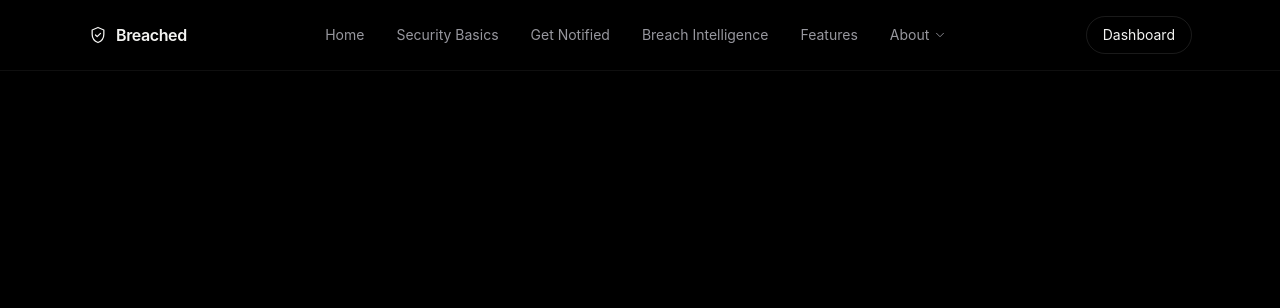
Scenario: Navbar › toggles the About dropdown
This screenshot has width=1280, height=308.
Click the button "About": x=919, y=35 [890, 25, 947, 45]
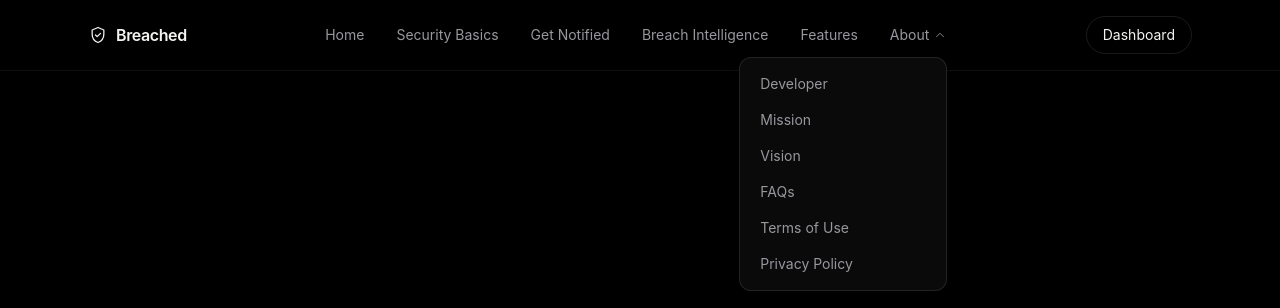
Check: the button "About" is expanded, box [890, 25, 947, 45]
